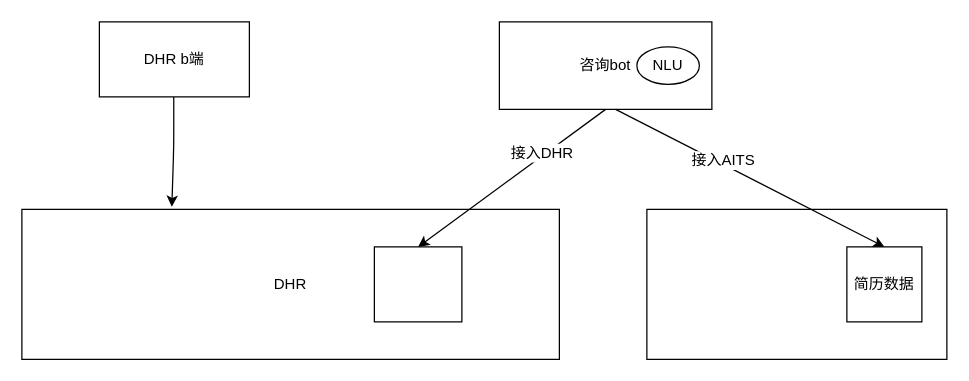
This 969x381 diagram has some shape labels left out. The shapes that lost their labels are listed below. From the top down, each one's box as (x1, y1, x2, y2) in pixels, then its label:
(373, 246, 462, 322): 盘点数据
(646, 208, 947, 359): AITS
